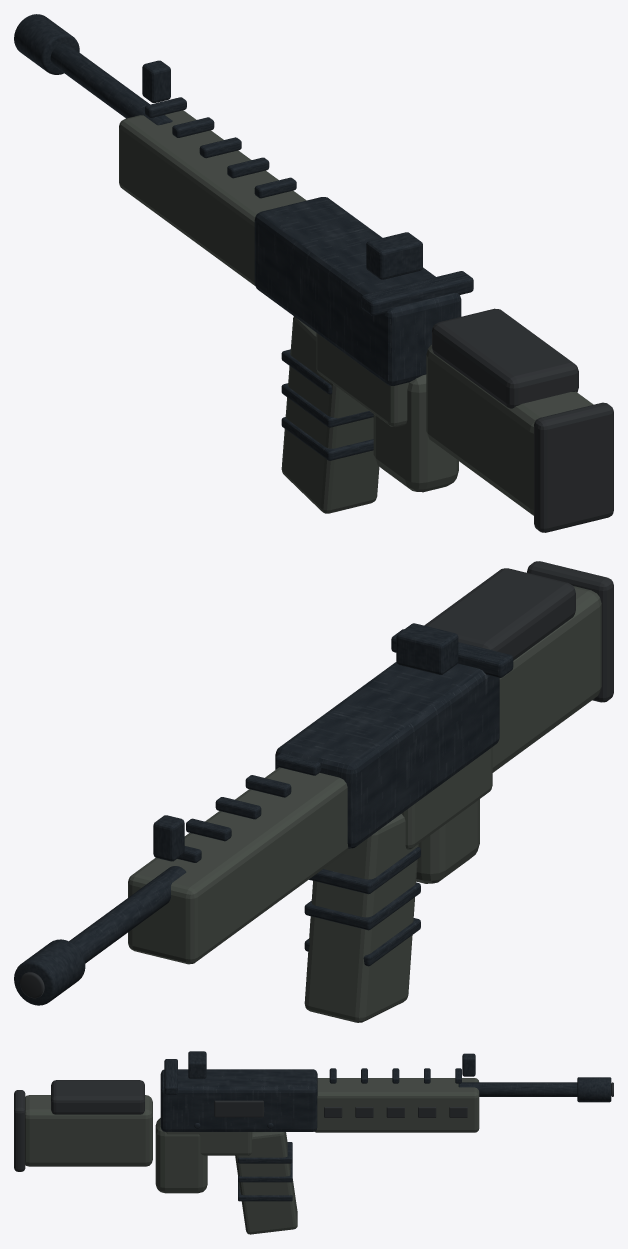
File: carbon_carbine.glb
3 views of the same model, one above another, from view 1: azimuth 30°, elevation 25°; view 2: azimuth 150°, elevation 25°; view 3: azimuth 270°, elevation 25° (orthographic). The views are drawn at different scales.
Parts seen in each view (by area): view 1: Adjustable stock, Charging handle, Butt pad, Front iron sight; view 2: Adjustable stock, Charging handle, Butt pad, Front iron sight; view 3: Adjustable stock, Charging handle, Butt pad, Front iron sight.
Boxes of the visible parts, bbox=[...] form: Adjustable stock: bbox=[119, 110, 593, 515]; Charging handle: bbox=[50, 43, 473, 385]; Butt pad: bbox=[432, 308, 613, 532]; Front iron sight: bbox=[14, 14, 422, 460]; Adjustable stock: bbox=[128, 586, 601, 1022]; Charging handle: bbox=[69, 629, 513, 963]; Butt pad: bbox=[20, 561, 613, 998]; Front iron sight: bbox=[14, 623, 458, 1005]; Adjustable stock: bbox=[25, 1078, 479, 1234]; Charging handle: bbox=[160, 1059, 577, 1131]; Butt pad: bbox=[14, 1080, 613, 1171]; Front iron sight: bbox=[188, 1051, 611, 1201].
Bounding box in the file's own units: 0.1425 × 0.3646 × 1.15.
Materials: 5 (3 with a texture image).
